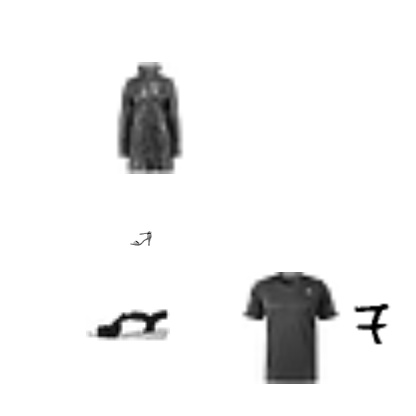7: (344, 292, 400, 348)
Coat: (94, 62, 206, 174)
Sandal: (86, 283, 170, 367), (130, 227, 152, 249)
T-shirt/top: (235, 272, 347, 384)
